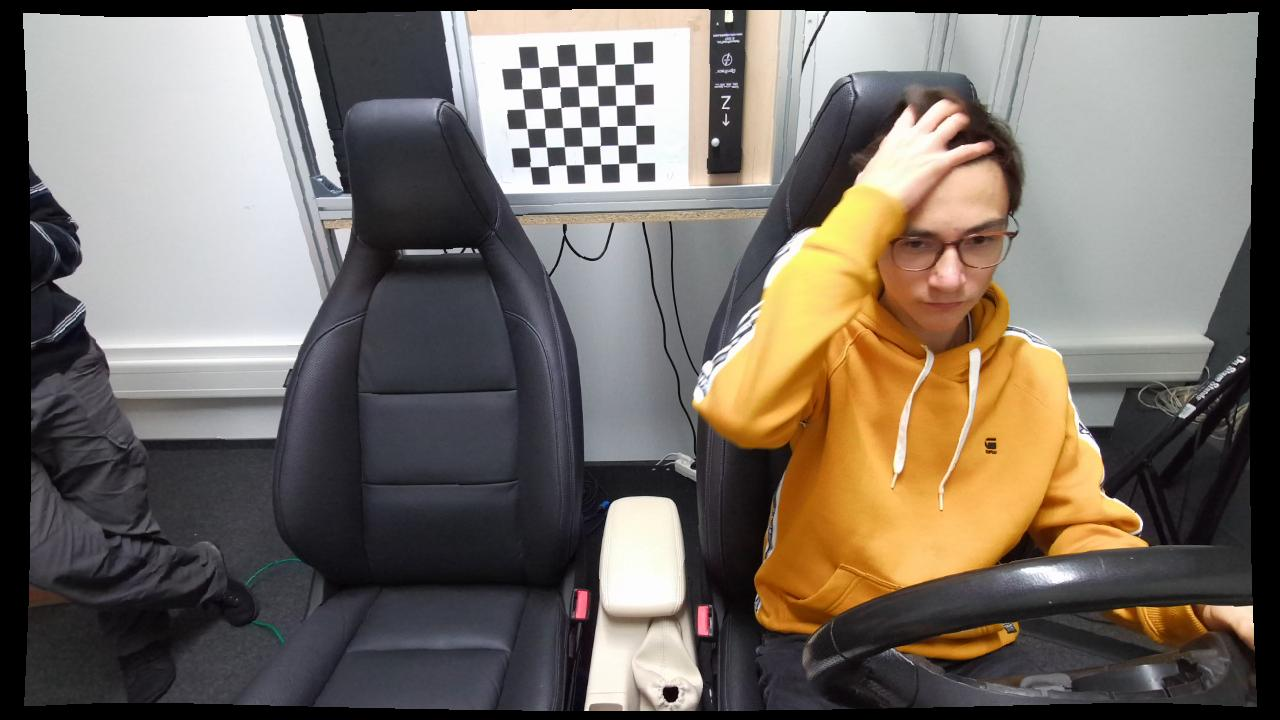Distracted: (692, 88, 1123, 708)
